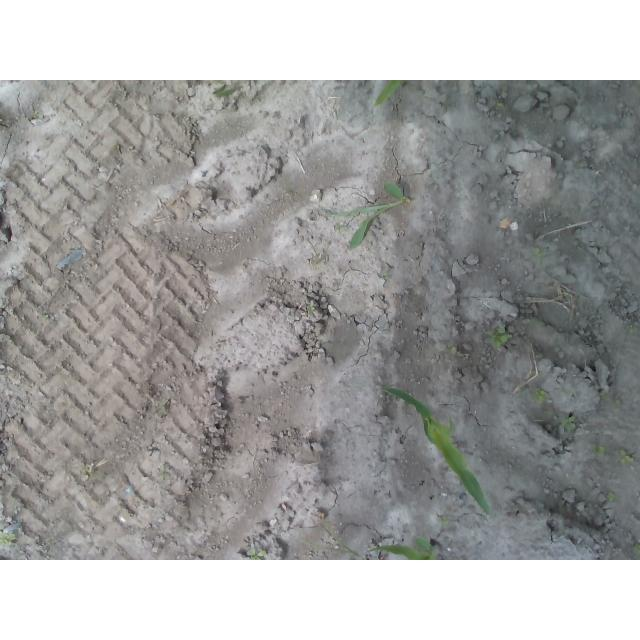Maize: (382, 384, 495, 518), (322, 178, 413, 250), (365, 536, 443, 561)
Weeds: (485, 320, 519, 352), (597, 446, 636, 471), (553, 411, 584, 437), (529, 382, 554, 406), (0, 530, 20, 551), (243, 546, 269, 560), (605, 488, 620, 504), (305, 298, 316, 313)
